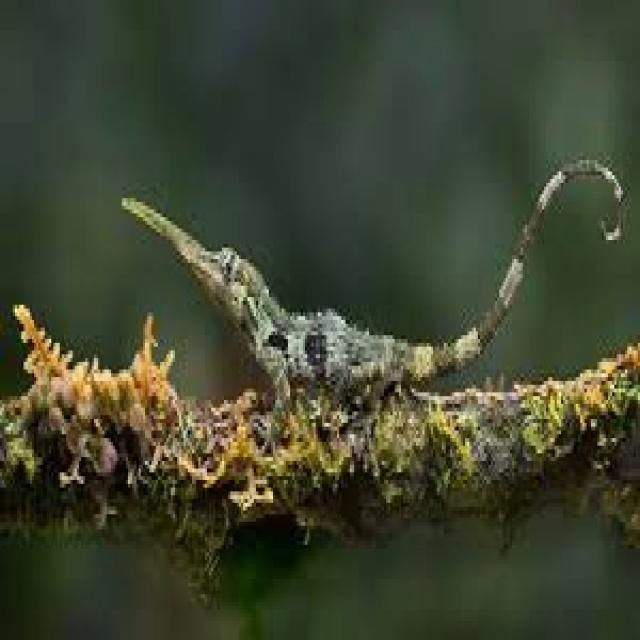lizard: (122, 160, 621, 400)
